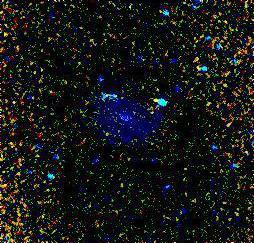star: (142, 85, 172, 115)
